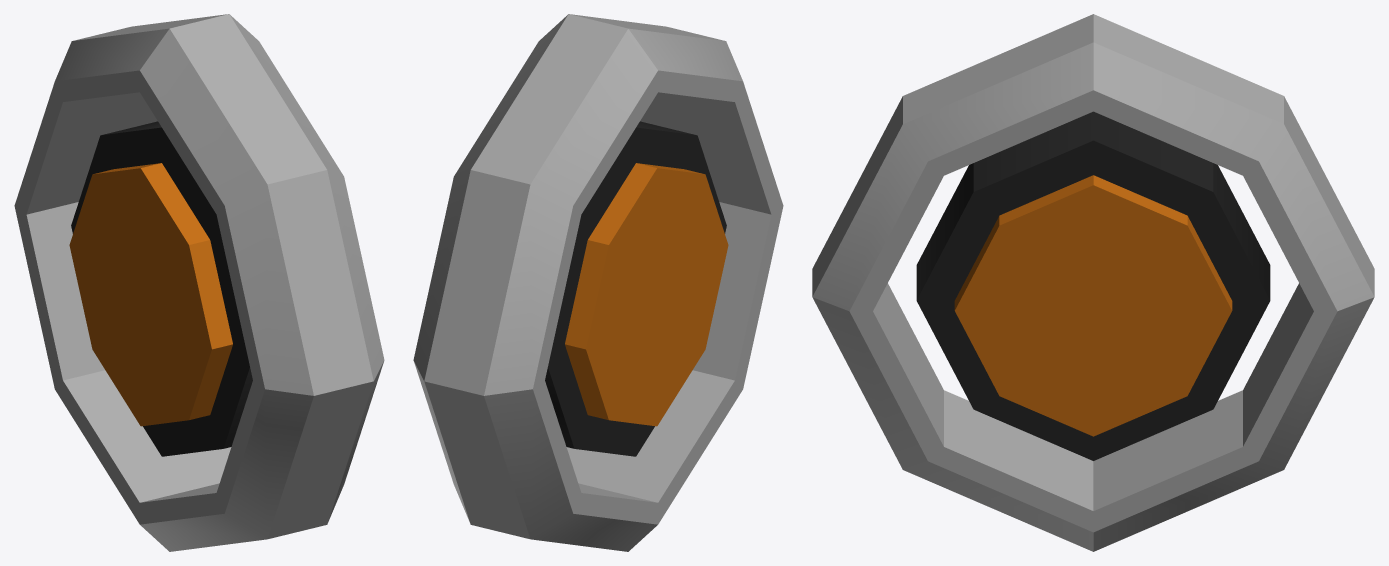
File: Wheel.fbx
3 views of the same model, side by side, from view 1: azimuth 30°, elevation 25°; view 2: azimuth 150°, elevation 25°; view 3: azimuth 270°, elevation 25° (orthographic). The views are drawn at different scales.
Visible parts, largest first — view 1: pCube63, pCube62; view 2: pCube63, pCube62; view 3: pCube63, pCube62.
Part boxes in pixels (<box>): pCube63: <box>14,14,384,551</box>; pCube62: <box>69,121,252,456</box>; pCube63: <box>413,14,783,551</box>; pCube62: <box>545,121,728,456</box>; pCube63: <box>812,14,1374,551</box>; pCube62: <box>916,111,1270,460</box>.
Size of the model in its own units: 0.3794 by 1.59 by 1.59.
